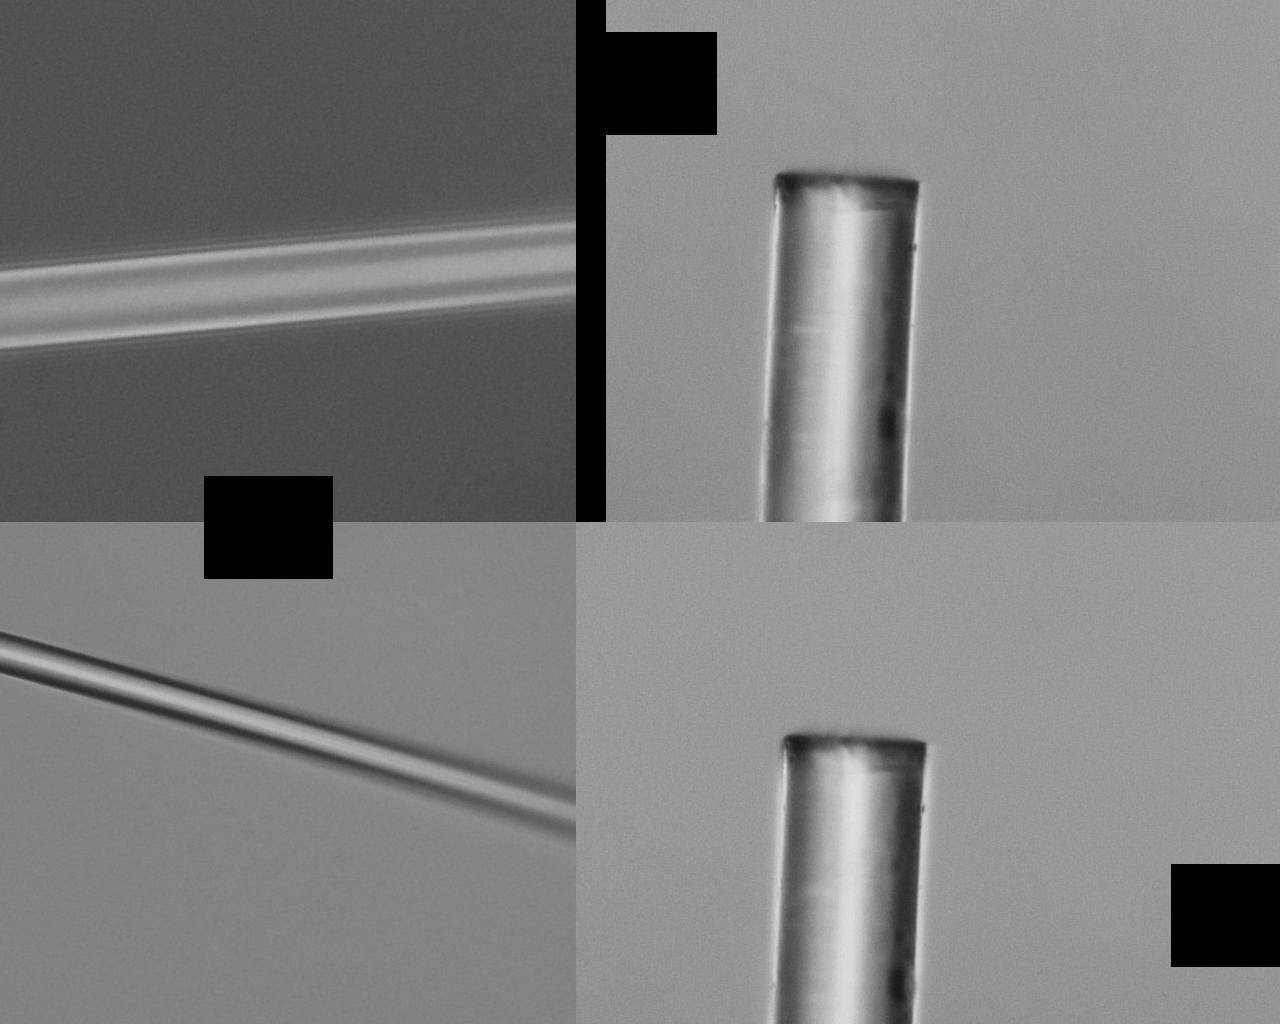fiber: (742, 359, 1280, 634), (788, 634, 1280, 879), (287, 634, 381, 1024)
